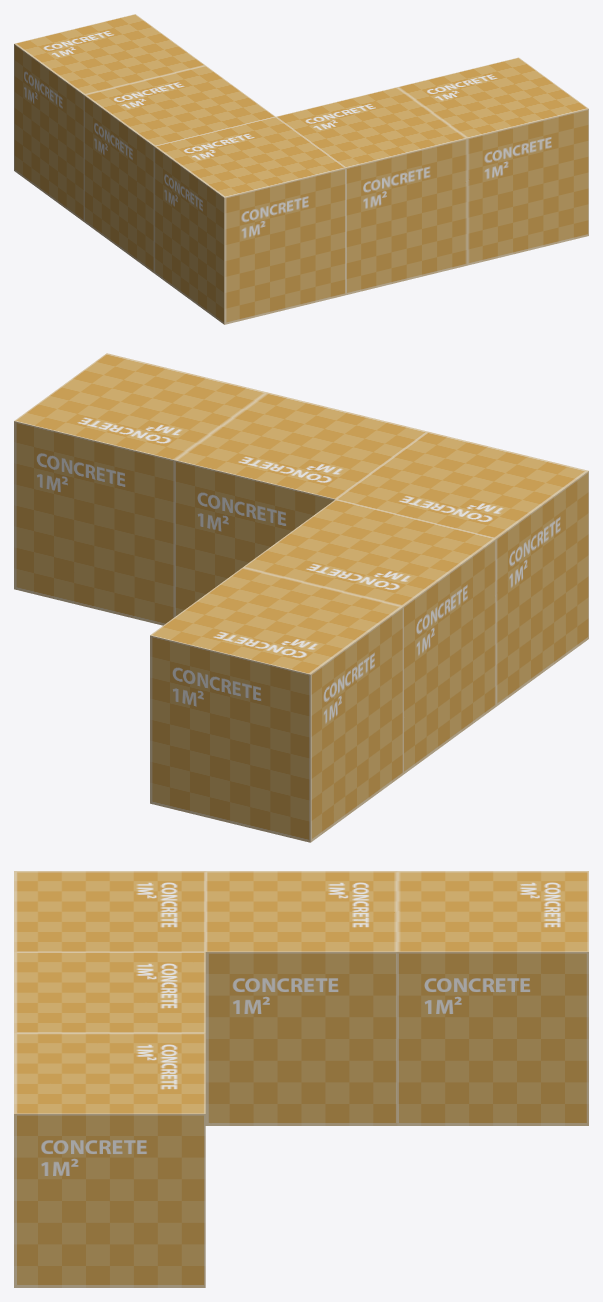
The model's file is construction_edge_convex_4.fbx.
3 renders of one model, top to bottom at view 1: azimuth 30°, elevation 25°; view 2: azimuth 150°, elevation 25°; view 3: azimuth 270°, elevation 25°, orthographic. The views are drawn at different scales.
Visible parts, largest first — view 1: construction_edge_convex_4; view 2: construction_edge_convex_4; view 3: construction_edge_convex_4.
Part boxes in pixels (x1,y1,x2,y2): construction_edge_convex_4: (14,14,588,324); construction_edge_convex_4: (14,353,588,842); construction_edge_convex_4: (14,871,588,1287).
Bounding box in the file's own units: 300 × 100 × 300.
